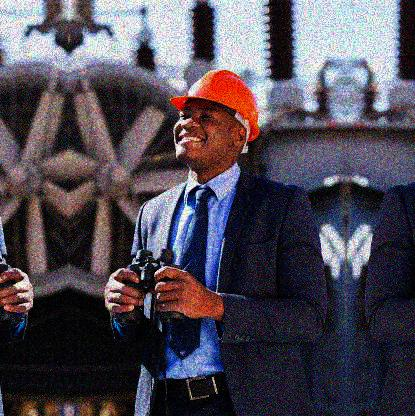helmet: (169, 67, 262, 159)
